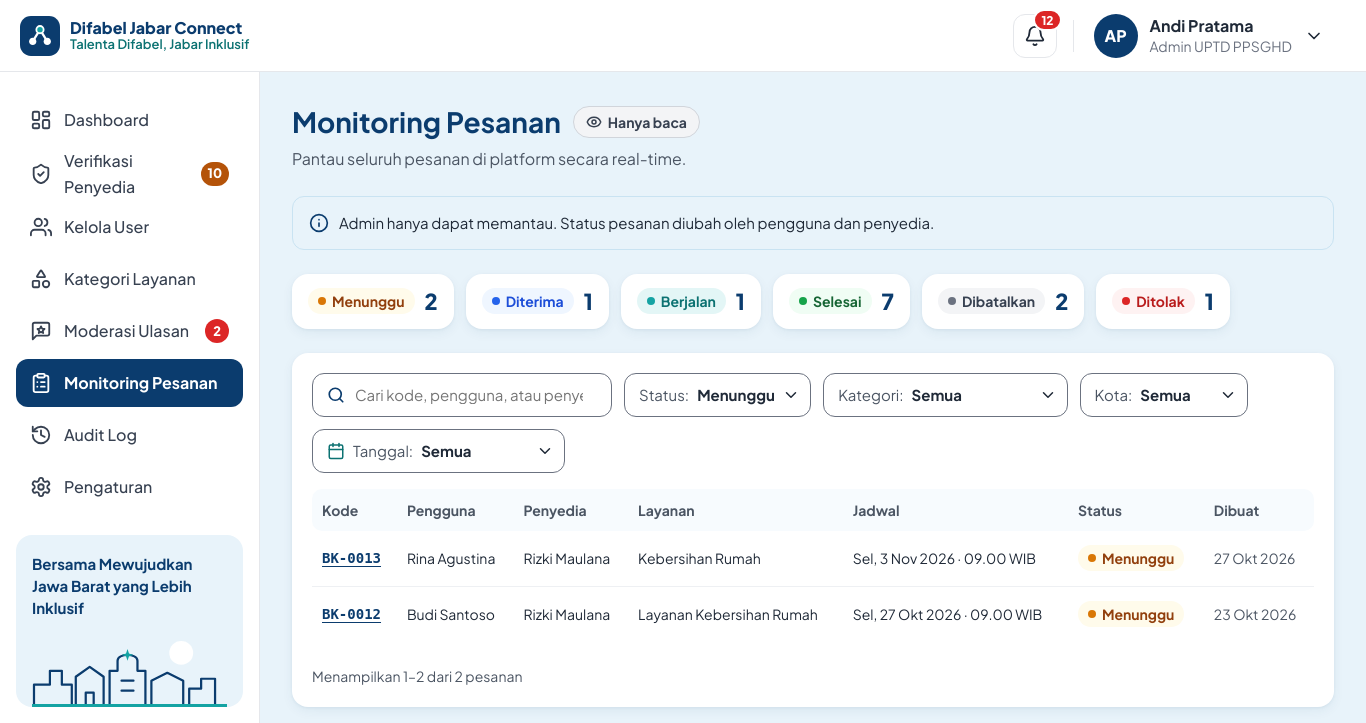
Monitoring Pesanan › ?status=menunggu memfilter dan drawer menampilkan biaya serta riwayat
expect the number of rows is 3: met, box [312,489,1314,531]; [312,531,1314,586]; [312,586,1314,641]
What coordinates should you click on to do the following:
click the button with aria-label "Detail pesanan BK-0012"
I would click on:
 (352, 614)
Its box is [322,599,381,629].
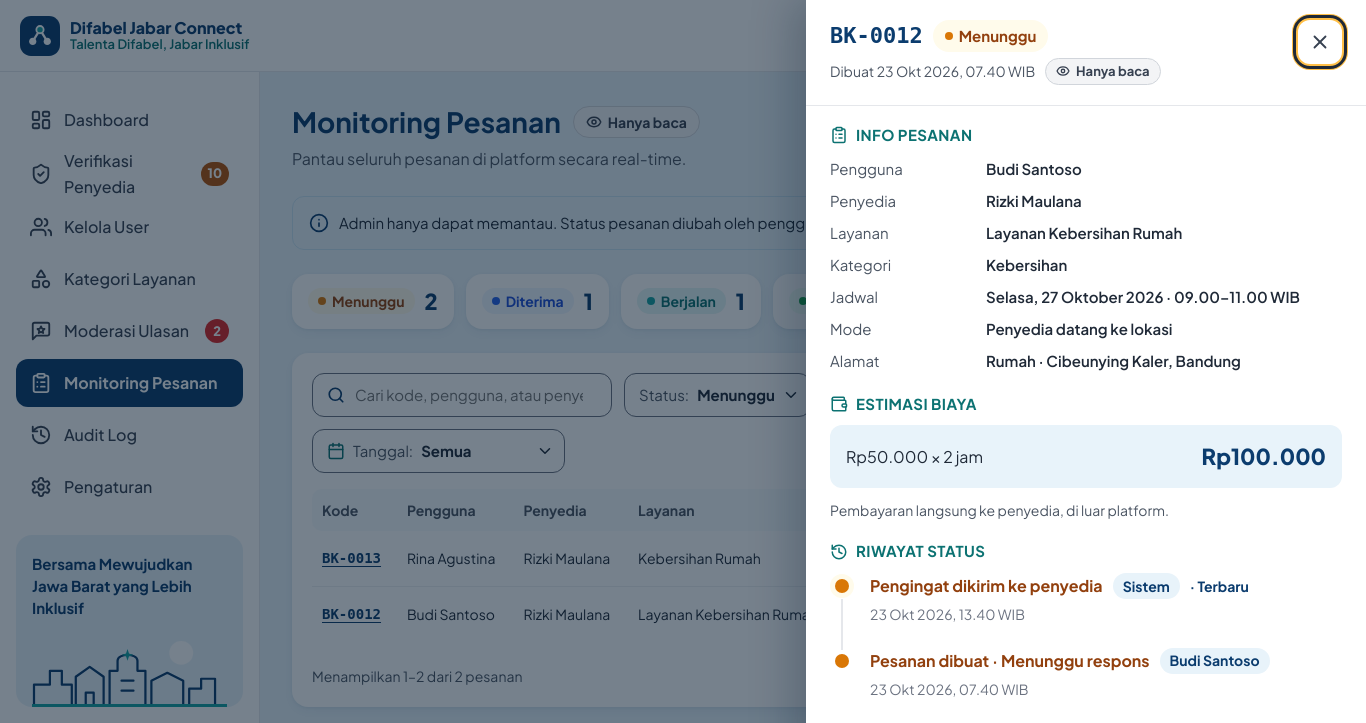
expect the text "Selasa, 27 Oktober 2026 · 09.00–11.00 WIB" is shown: met, box [986,284,1342,308]
expect the text "Rp50.000 × 2 jam" is shown: met, box [846,444,983,470]
expect the text "Rp100.000" is shown: met, box [1202,439,1326,474]
